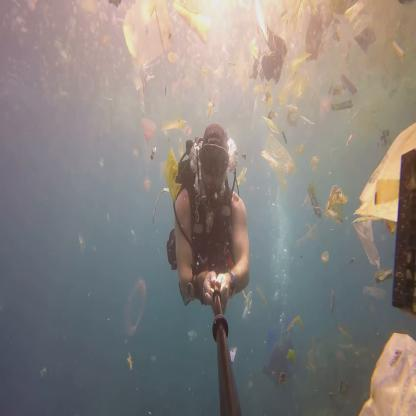Rác: (364, 108, 414, 252), (328, 0, 372, 112), (122, 7, 184, 78), (366, 316, 412, 380), (174, 6, 216, 56), (262, 24, 290, 90), (262, 130, 293, 180), (304, 170, 323, 221), (289, 60, 313, 98), (158, 110, 189, 136), (235, 53, 255, 91), (141, 118, 157, 147), (202, 96, 215, 110)
